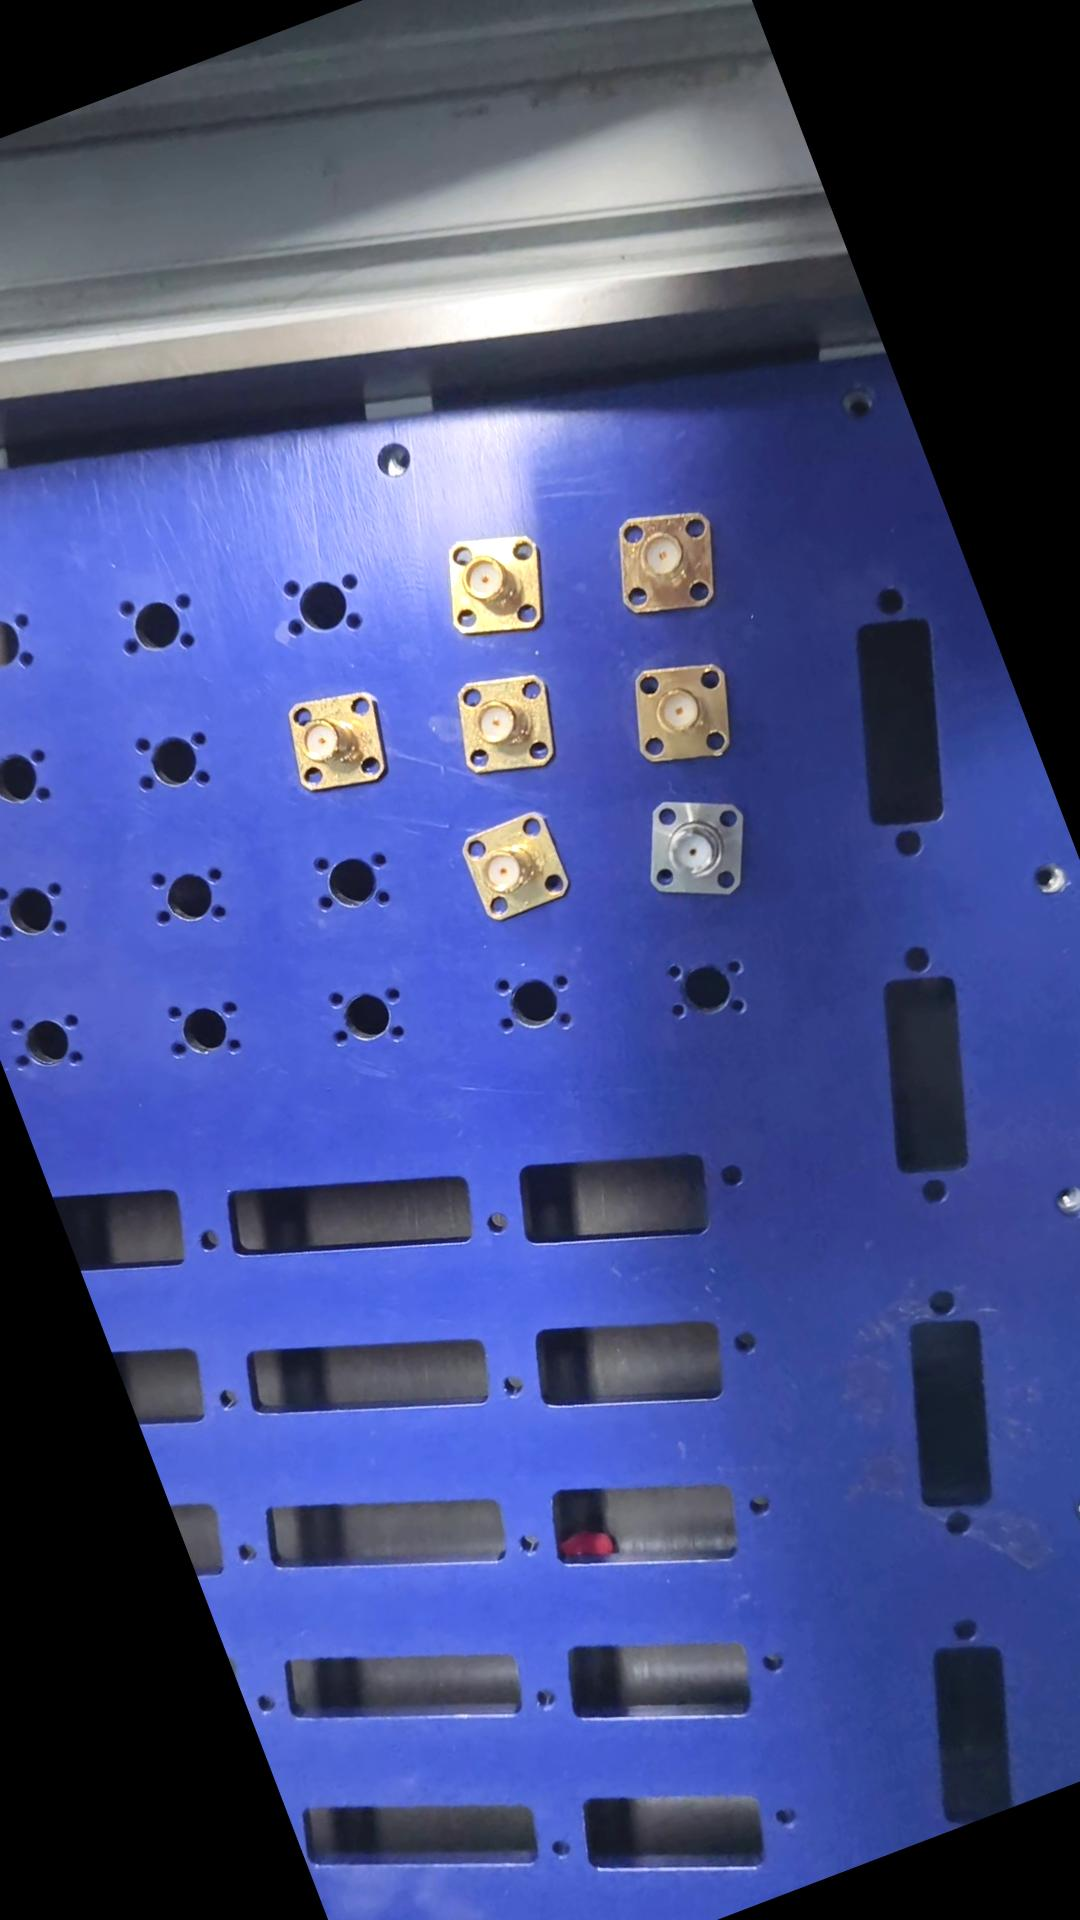SMA: (589, 493, 741, 637), (616, 778, 766, 920), (414, 514, 560, 655), (605, 646, 746, 783), (444, 800, 583, 938), (431, 659, 574, 793), (268, 676, 400, 814)
